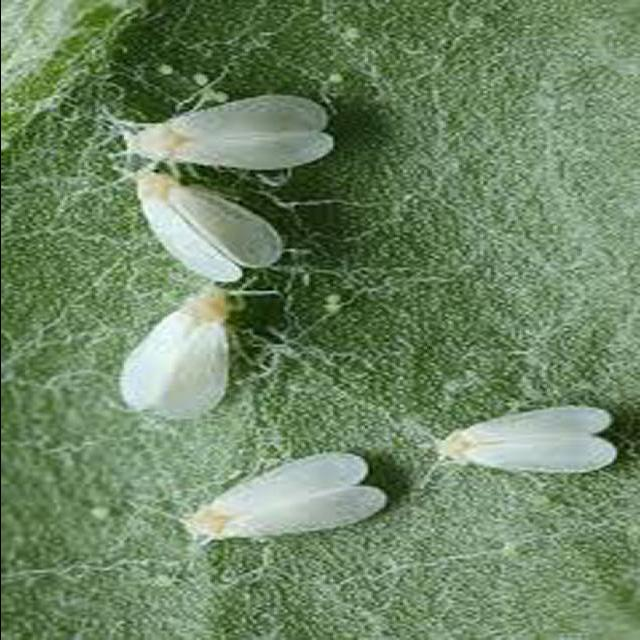Whitefly: (92, 89, 346, 436), (117, 448, 408, 556), (401, 403, 628, 500)
